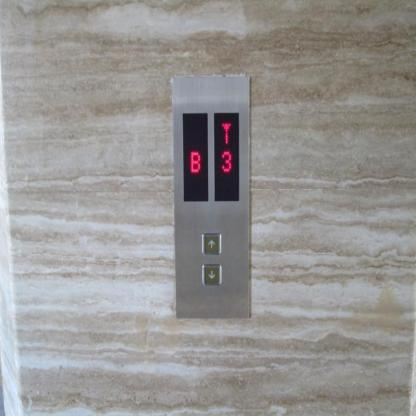down: (200, 262, 222, 286)
led: (212, 110, 240, 203), (181, 111, 209, 203)
up: (200, 231, 222, 256)
